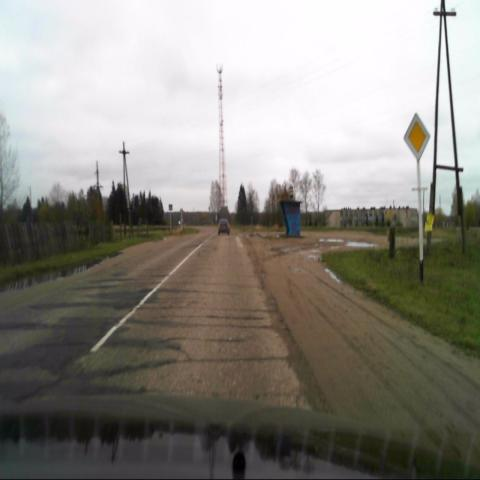2_1: (404, 112, 430, 160)
